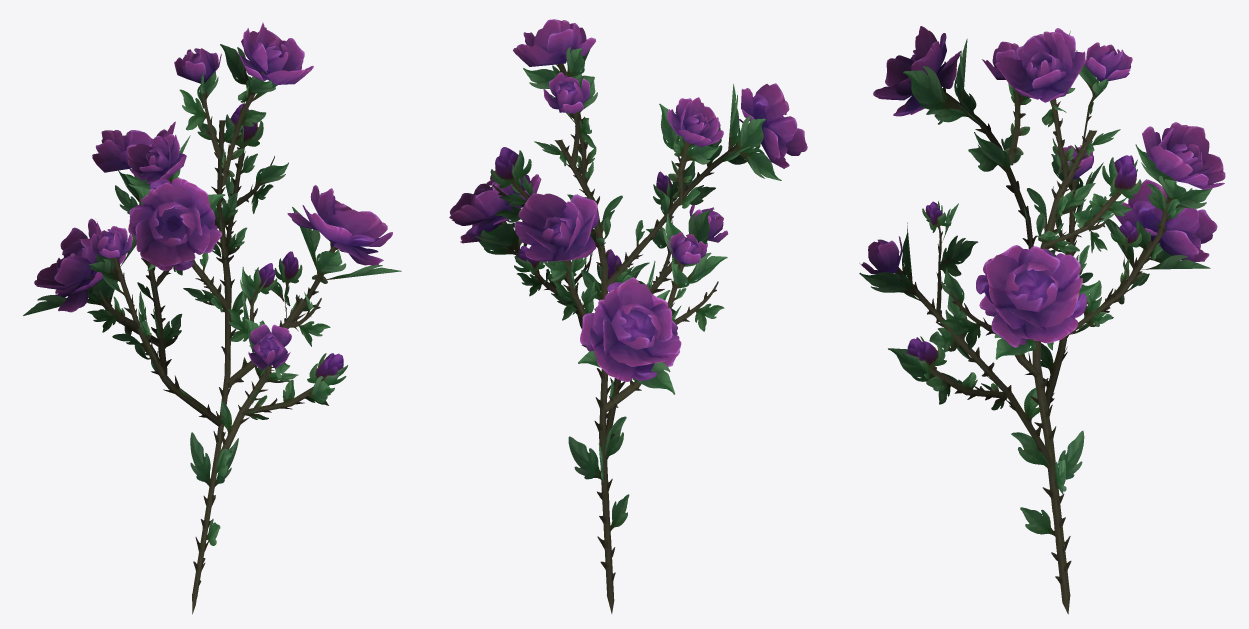
3 renders of one model, left to right at view 1: azimuth 30°, elevation 25°; view 2: azimuth 150°, elevation 25°; view 3: azimuth 270°, elevation 25°, orthographic. The views are drawn at different scales.
Size of the model in its own units: 2.94 by 5.08 by 2.82.
Materials: 1 (1 with a texture image).
